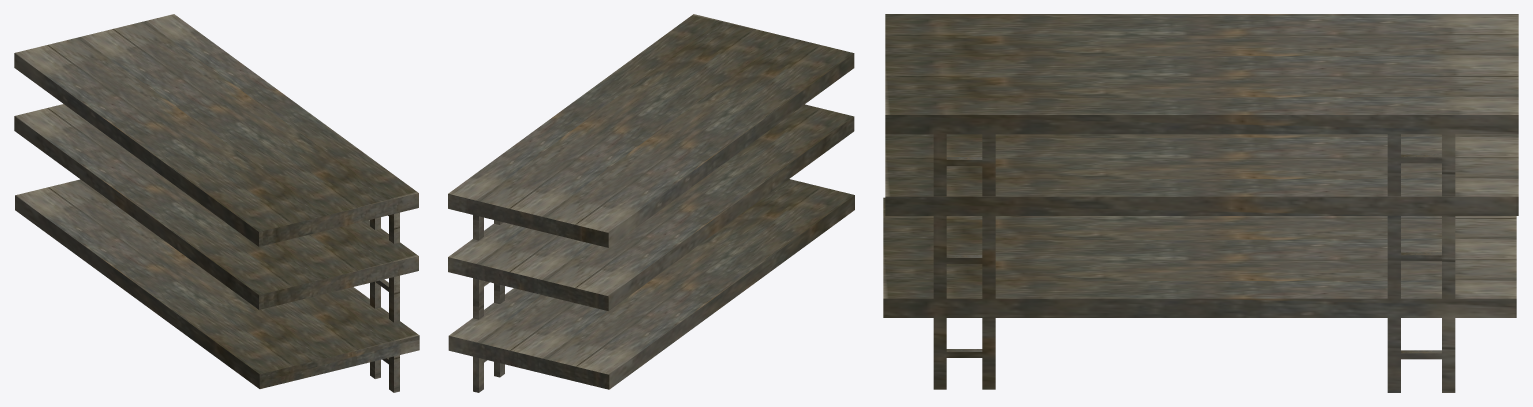
Rendered from bunk.glb.
3 renders of one model, left to right at view 1: azimuth 30°, elevation 25°; view 2: azimuth 150°, elevation 25°; view 3: azimuth 270°, elevation 25°, orthographic. The views are drawn at different scales.
Parts seen in each view (by area): view 1: bunk.ms3d.mo; view 2: bunk.ms3d.mo; view 3: bunk.ms3d.mo.
Boxes of the visible parts, box(x1,y1,x2,y2) form: bunk.ms3d.mo: box(14, 14, 419, 392); bunk.ms3d.mo: box(448, 14, 854, 392); bunk.ms3d.mo: box(883, 14, 1518, 392).
Size of the model in its own units: 31.84 by 40.89 by 84.67.
Materials: 1 (1 with a texture image).
